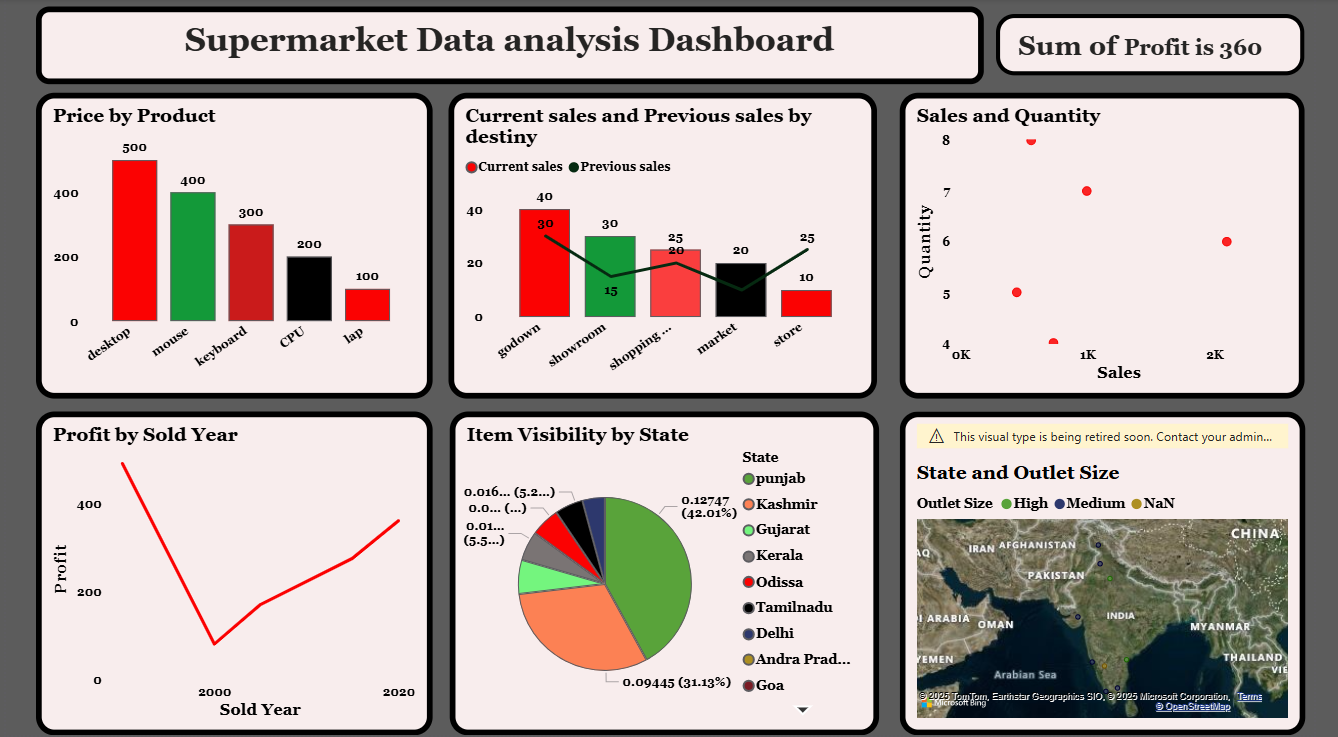

The page's visual inventory and layout, read from the dashboard file:
{"tool":"powerbi","page":{"name":"Page 1","canvas":[1280,720],"ordinal":0},"visuals":[{"type":"clusteredColumnChart","fields":{"Category":["formulae.product"],"Y":["Sum(formulae.price)"]},"box":[29.4,91.8,387.9,299.6],"z":0},{"type":"lineChart","fields":{"Category":["formulae.sold year"],"Y":["Sum(formulae.profit3)"]},"box":[29.4,403.5,387.9,316.9],"z":1000},{"type":"lineStackedColumnComboChart","fields":{"Category":["formulae.destiny"],"Y":["Sum(formulae.cuurent sales)"],"Y2":["Sum(formulae.previous sales)"]},"box":[432.9,91.7,419.4,299.6],"z":2000},{"type":"pieChart","fields":{"Category":["product_sales.State"],"Y":["Sum(product_sales.Item_Visibility)"]},"box":[433.6,403.4,419.9,317],"z":3000},{"type":"scatterChart","fields":{"X":["formulae.Sales"],"Y":["formulae.quantity"]},"box":[874.3,91.7,396.2,299.6],"z":4000},{"type":"map","fields":{"Category":["product_sales.State"],"Series":["product_sales.Outlet_Size"]},"box":[874.1,403.4,396.6,317],"z":5000},{"type":"textbox","box":[29.3,7.3,926.9,75.8],"z":6000},{"type":"textbox","box":[968.8,15.1,301.9,60.4],"z":7000}]}

Visuals, with their boxes in screenshot pixels (x1, y1, x2, y2), scaled from the page's 1280x720 canvas onto the 1338x737 screenshot:
clusteredColumnChart - formulae.product x Sum(formulae.price): bbox=[31, 94, 436, 401]
lineChart - formulae.sold year x Sum(formulae.profit3): bbox=[31, 413, 436, 736]
lineStackedColumnComboChart - formulae.destiny x Sum(formulae.cuurent sales): bbox=[453, 94, 891, 401]
pieChart - product_sales.State x Sum(product_sales.Item_Visibility): bbox=[453, 413, 892, 736]
scatterChart - formulae.Sales x formulae.quantity: bbox=[914, 94, 1328, 401]
map - product_sales.State x product_sales.Outlet_Size: bbox=[914, 413, 1328, 736]
textbox: bbox=[31, 7, 1000, 85]
textbox: bbox=[1013, 15, 1328, 77]
